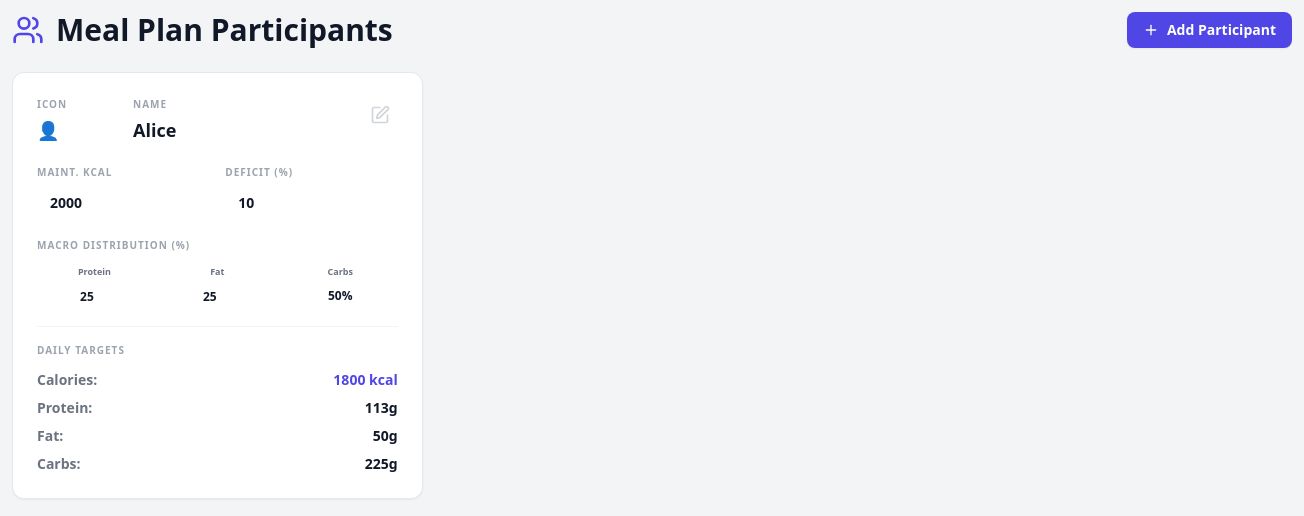
Test: Participants › automatically calculates carbs percentage when protein or fat changes
This screenshot has width=1304, height=516.
Step 1. Click the button titled "Edit Participant" → coordinates (380, 115), box [362,97,398,133]
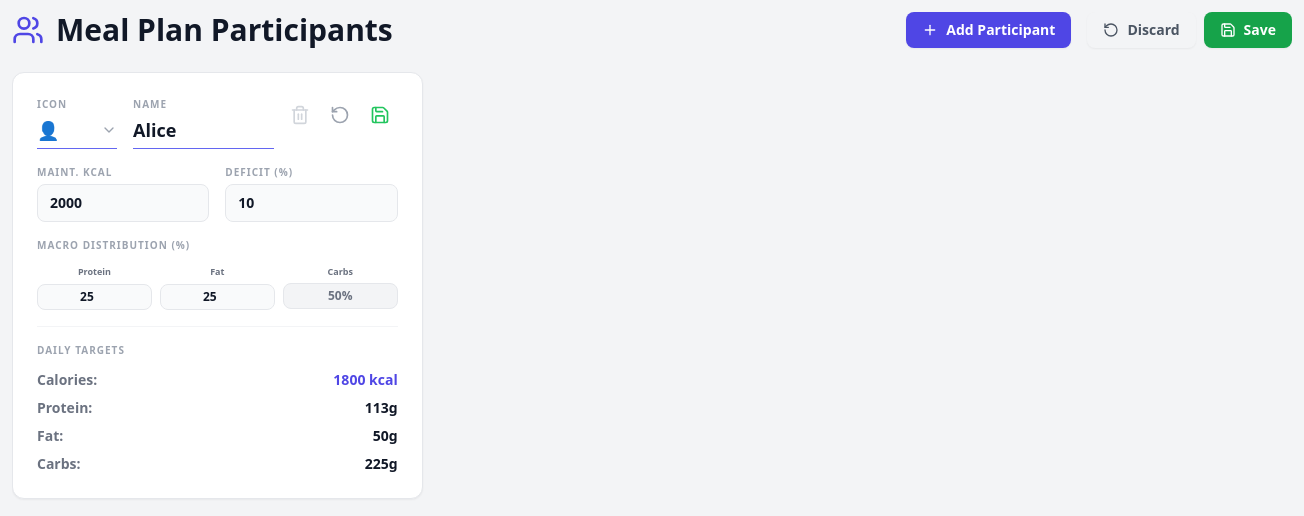
Step 2. Replace the text in the number field named "Protein percentage" with "30" → coordinates (94, 296), box [37,284,152,310]
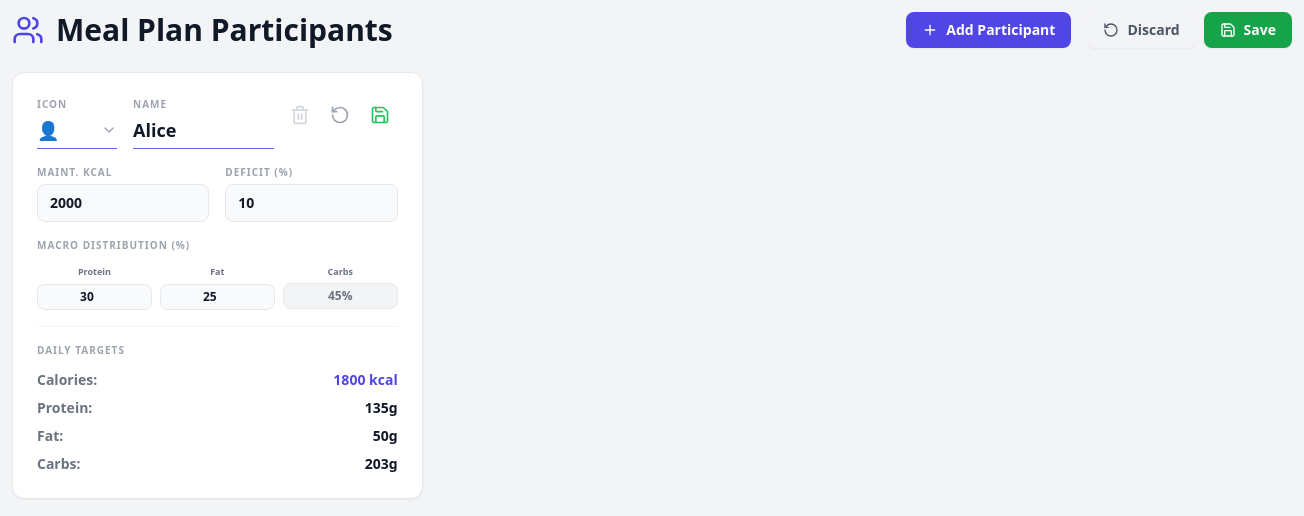
Now the text named "Carbs percentage" reads "45%", box [283,282,398,308]
